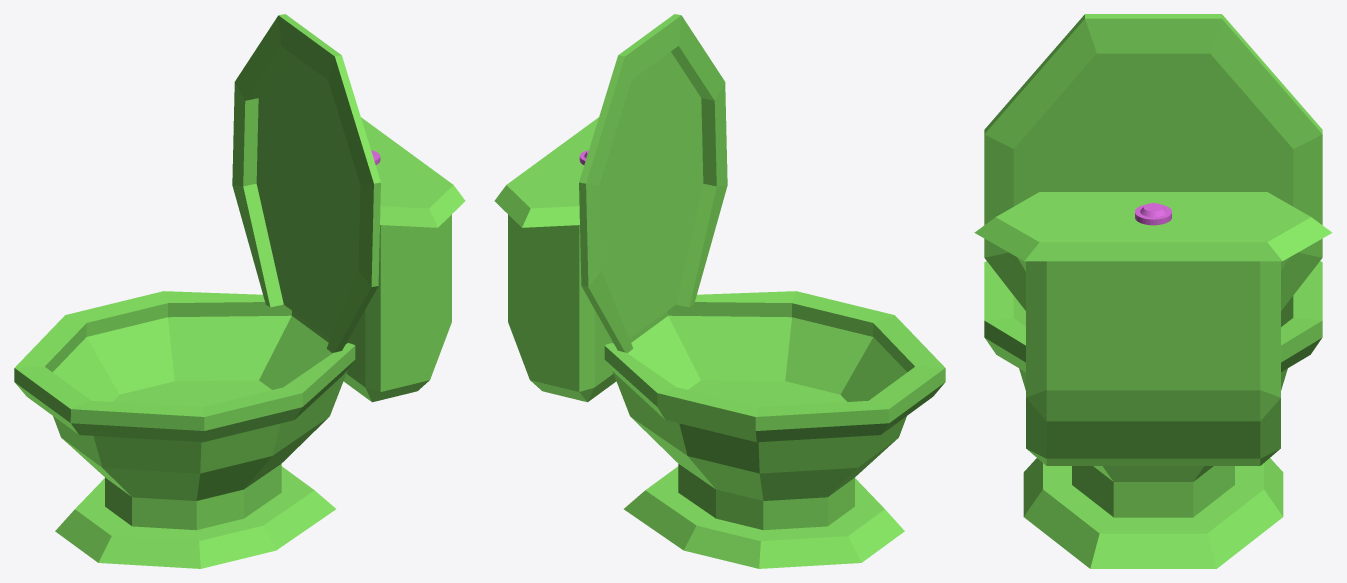
The model's file is toilet.fbx.
3 views of the same model, side by side, from view 1: azimuth 30°, elevation 25°; view 2: azimuth 150°, elevation 25°; view 3: azimuth 270°, elevation 25° (orthographic). The views are drawn at different scales.
Visible parts, largest first — view 1: toilet, toilet lid, back ass tank, tank lid; view 2: toilet, toilet lid, back ass tank, tank lid; view 3: toilet lid, back ass tank, toilet, tank lid, button.
Part boxes in pixels (left/top/right/bottom): toilet: left=14, top=291, right=355, bottom=568; toilet lid: left=232, top=14, right=380, bottom=353; back ass tank: left=291, top=214, right=451, bottom=402; tank lid: left=361, top=117, right=465, bottom=227; toilet: left=604, top=291, right=945, bottom=568; toilet lid: left=579, top=14, right=727, bottom=353; back ass tank: left=508, top=214, right=668, bottom=402; tank lid: left=494, top=117, right=598, bottom=227; toilet lid: left=984, top=14, right=1322, bottom=310; back ass tank: left=1026, top=261, right=1280, bottom=465; toilet: left=984, top=261, right=1322, bottom=568; tank lid: left=974, top=192, right=1332, bottom=261; button: left=1135, top=203, right=1171, bottom=225.
Bounding box in the file's own units: 371 × 437 × 256.
